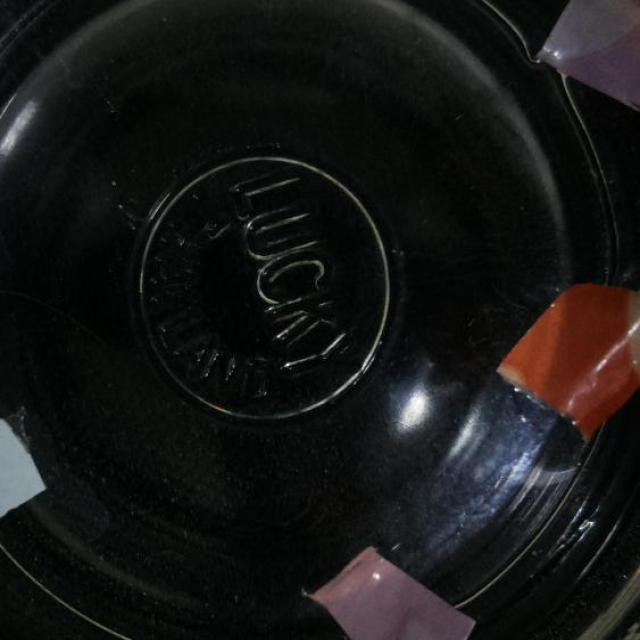fiber: (494, 277, 640, 444), (307, 538, 478, 640), (534, 3, 640, 117), (0, 415, 56, 529)
